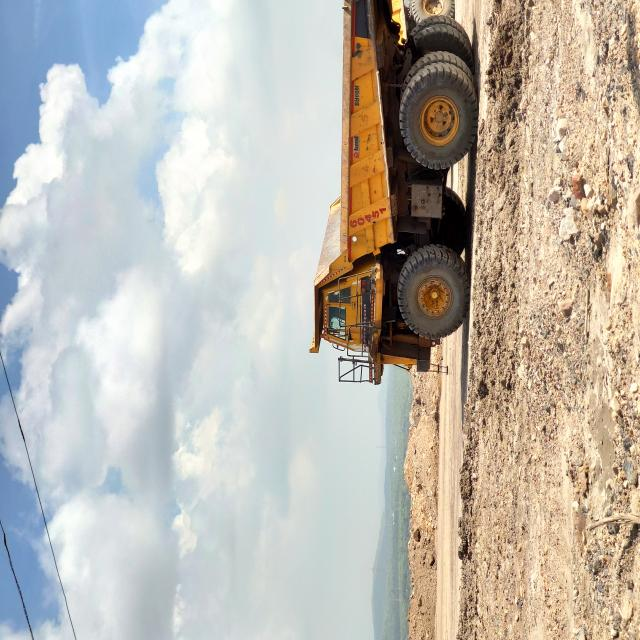dump_truck: (192, 415, 480, 640)
